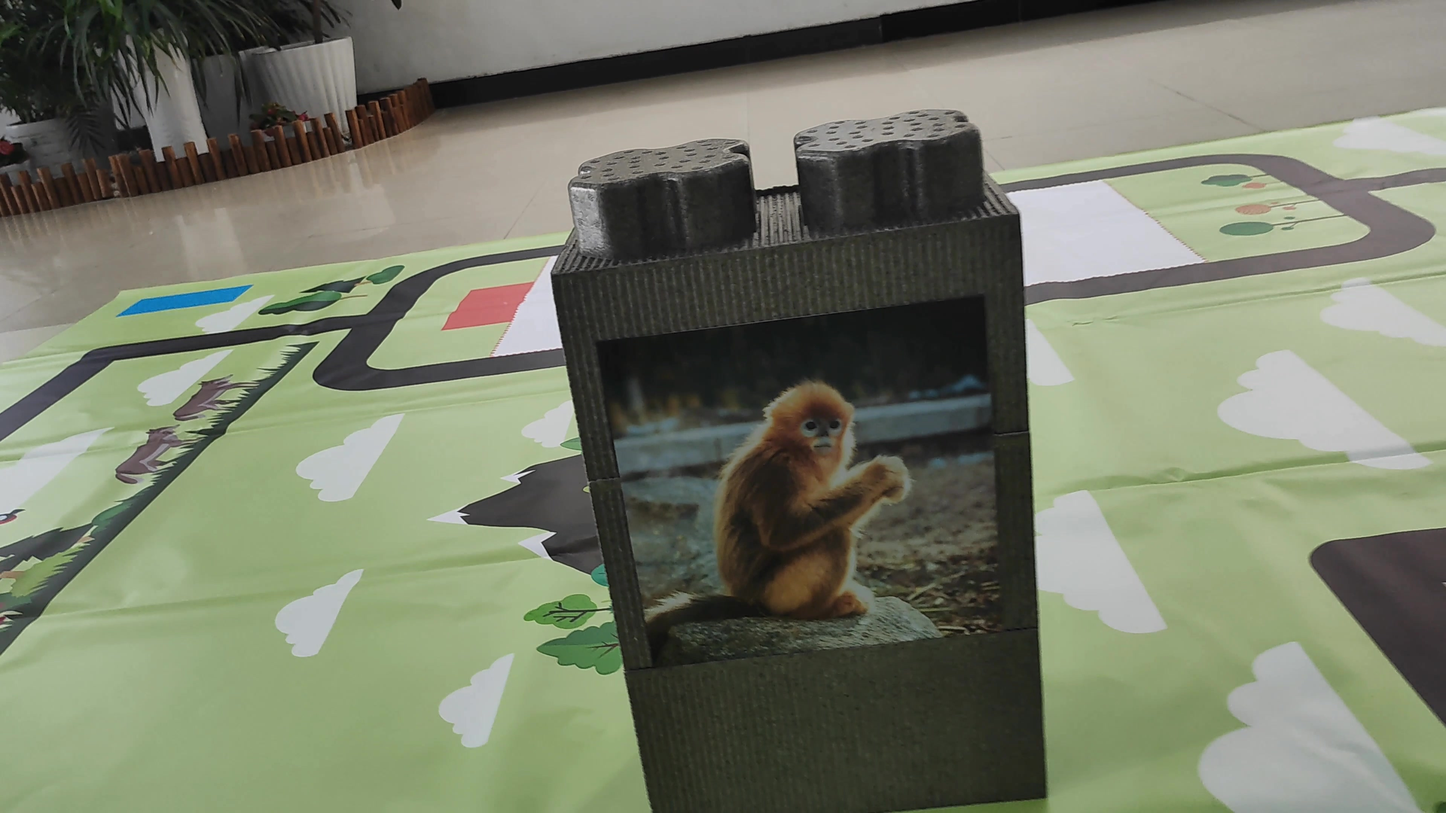monkey: (629, 365, 941, 669)
